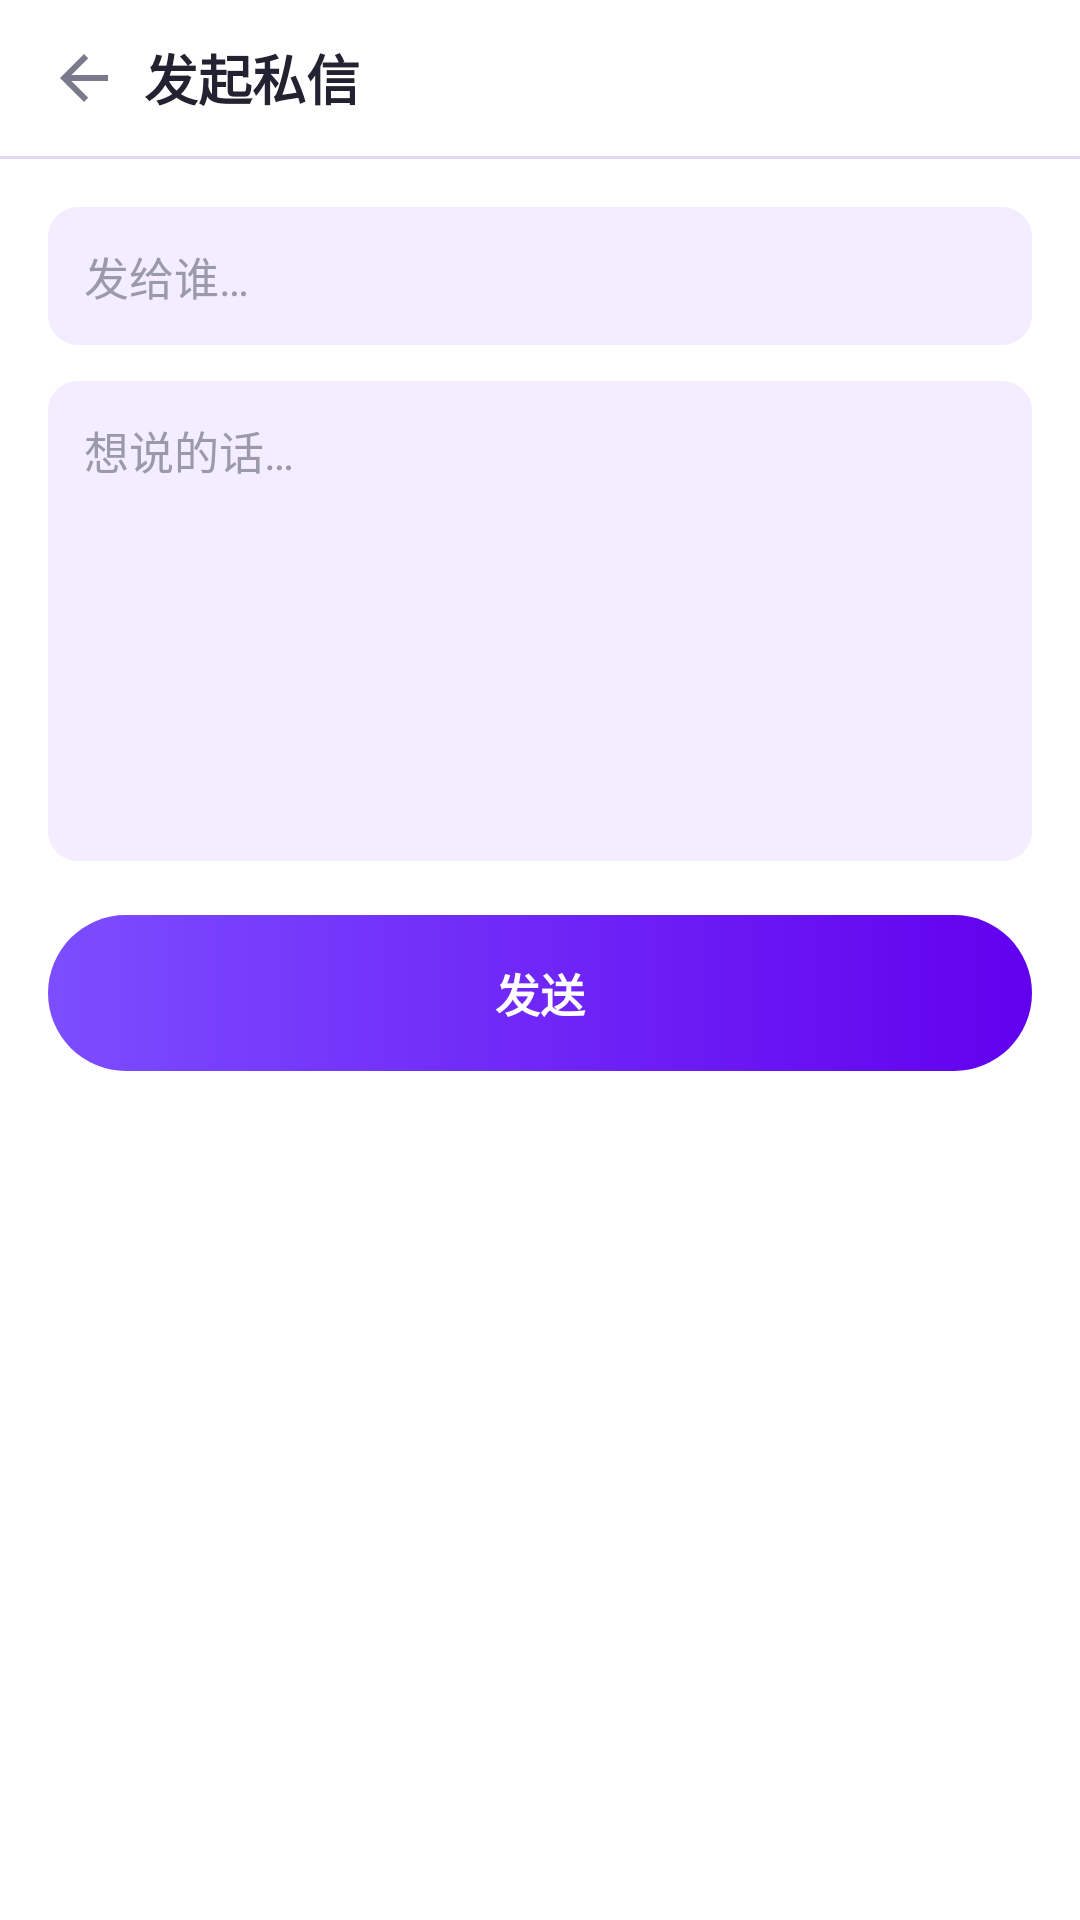

Icon bounding boxes for this 1080 × 1920 phone screenshot, format [left=x1, top=y1, right=x2, bottom=y2]:
返回: [left=60, top=54, right=108, bottom=102]
